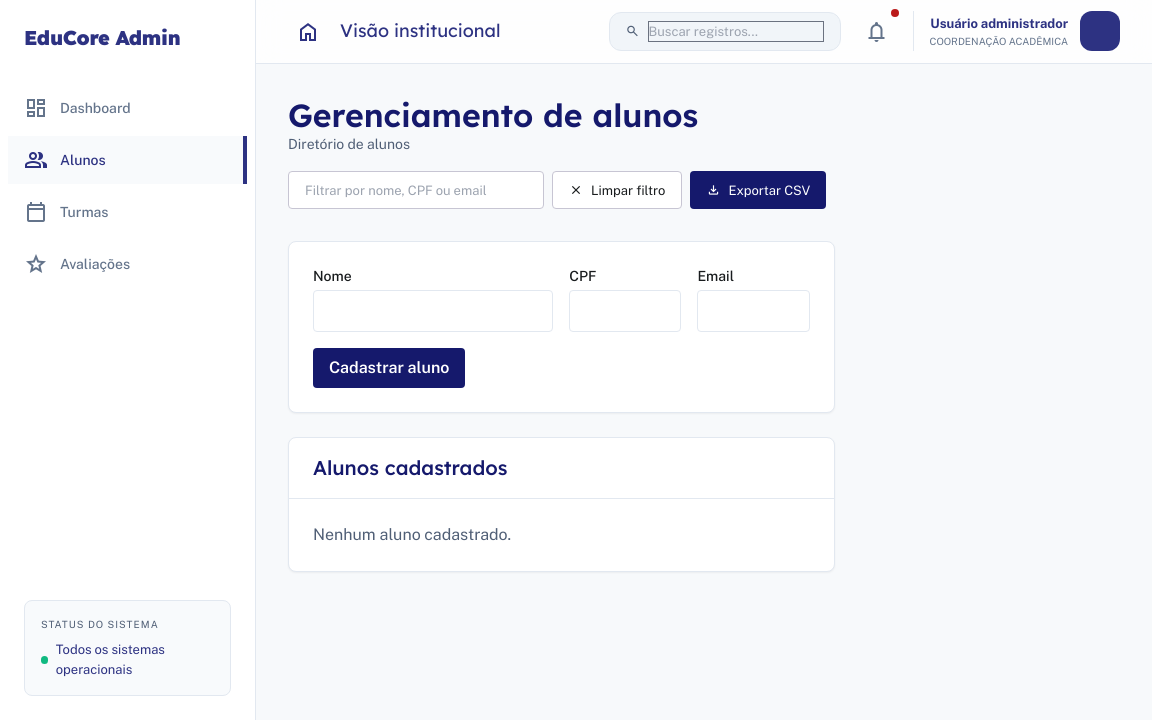
Test: Tela de alunos › filtra alunos por termo digitado
Expected: the heading "Gerenciamento de alunos" is shown, [288, 96, 698, 134]
Type "ana" into the field with placeholder "Filtrar por nome, CPF ou email" at coordinates (416, 190), box [288, 171, 544, 209]
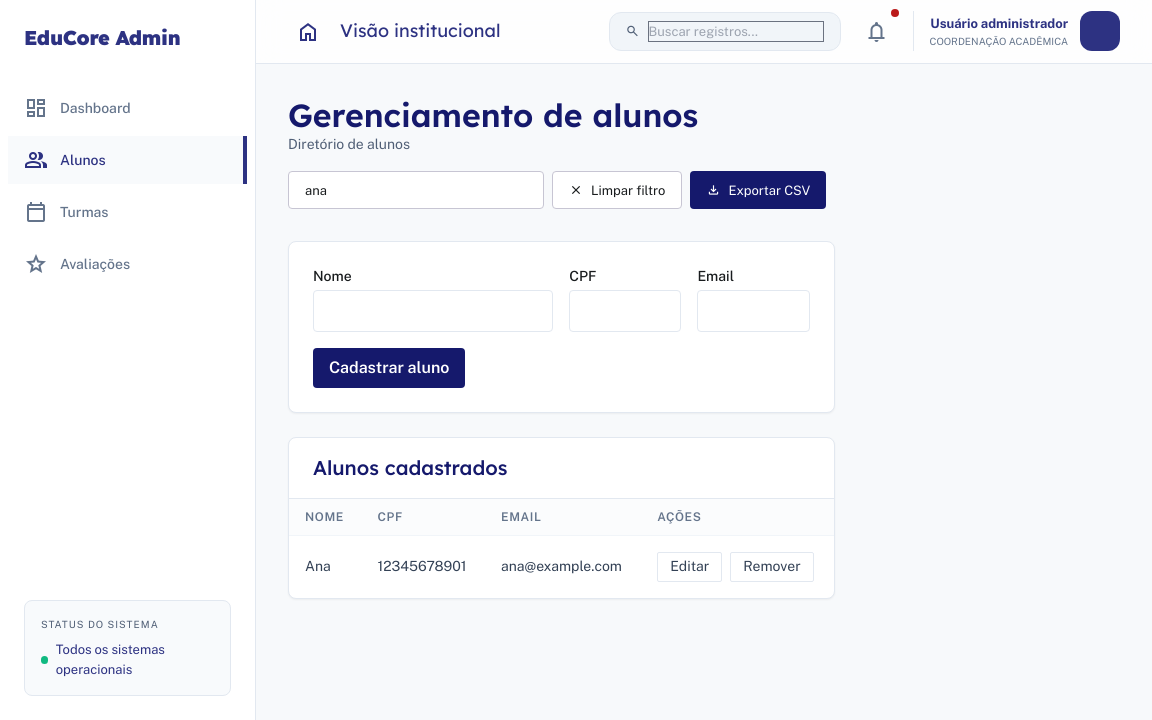
Expected: the cell "Ana" is shown, [289, 536, 362, 598]
